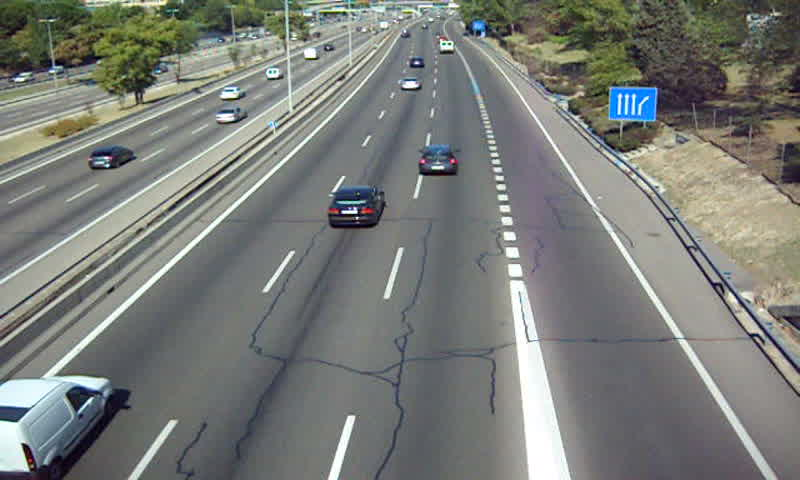car: (328, 187, 384, 227), (419, 147, 459, 175), (399, 76, 421, 92), (407, 57, 425, 72)
van: (1, 376, 115, 480)
